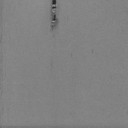slag inclusion: (51, 0, 58, 30)
